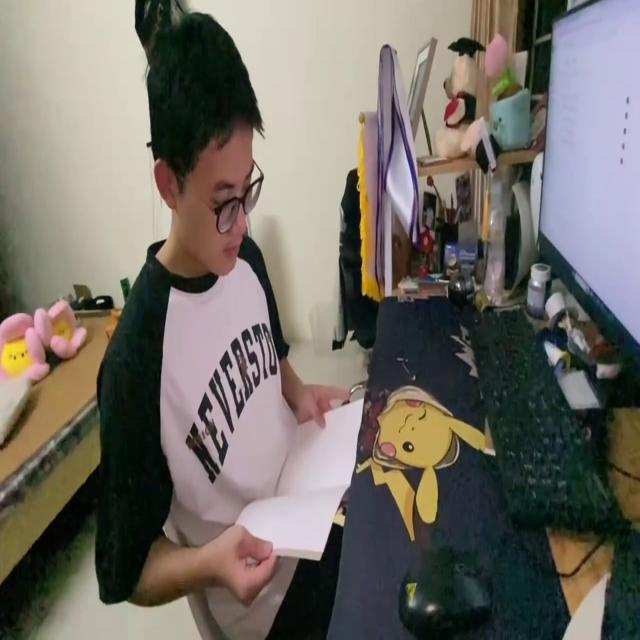book: (235, 393, 368, 568)
laptop: (535, 0, 640, 388)
student: (96, 10, 343, 640)
